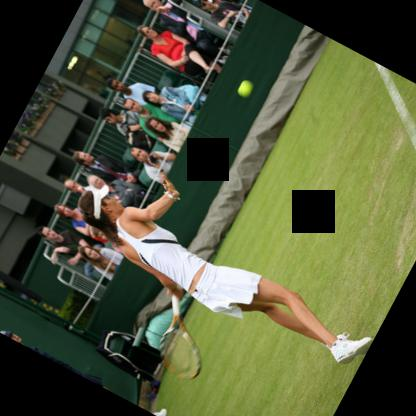backpack: (123, 129, 154, 147)
